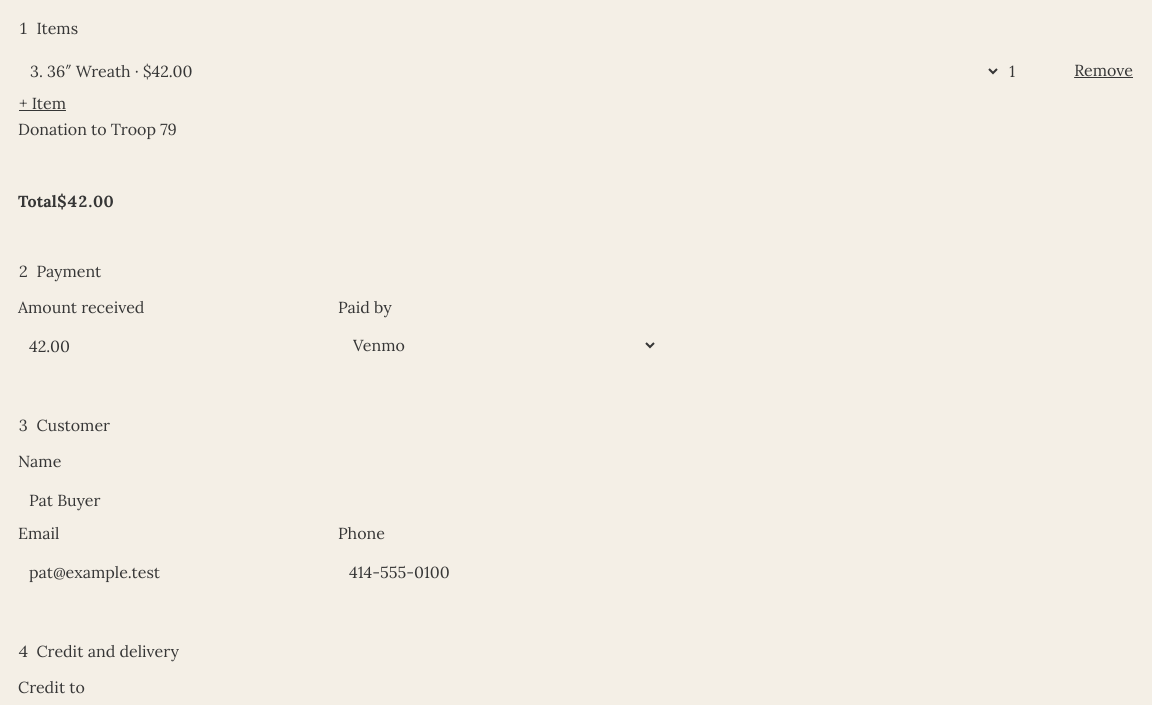
it: Edit order › EditOrderForm_PaidMoreThanTheNewTotal_CountsTheExtraAsAGift
This screenshot has width=1152, height=705.
Select "1. 20″ Wreath · $26.00" in the dropdown named "Item" at (510, 71), box [18,53,1001,89]
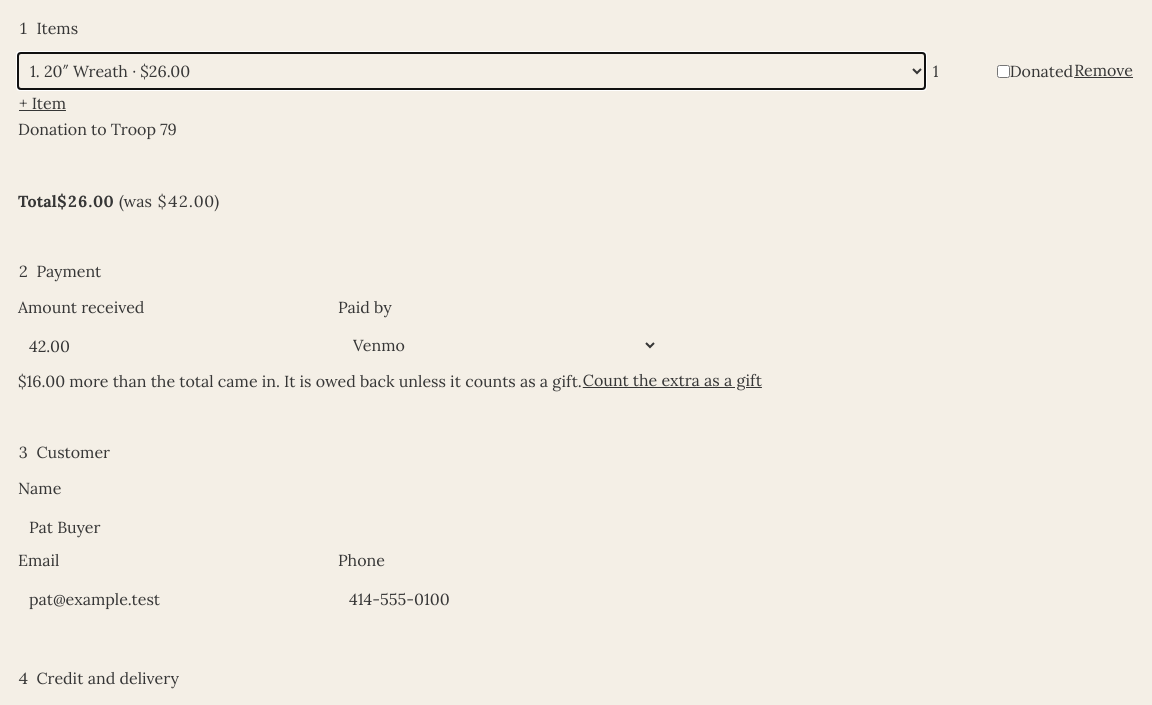
Click the button "Count the extra as a gift" at (672, 381), box [582,367,763,394]
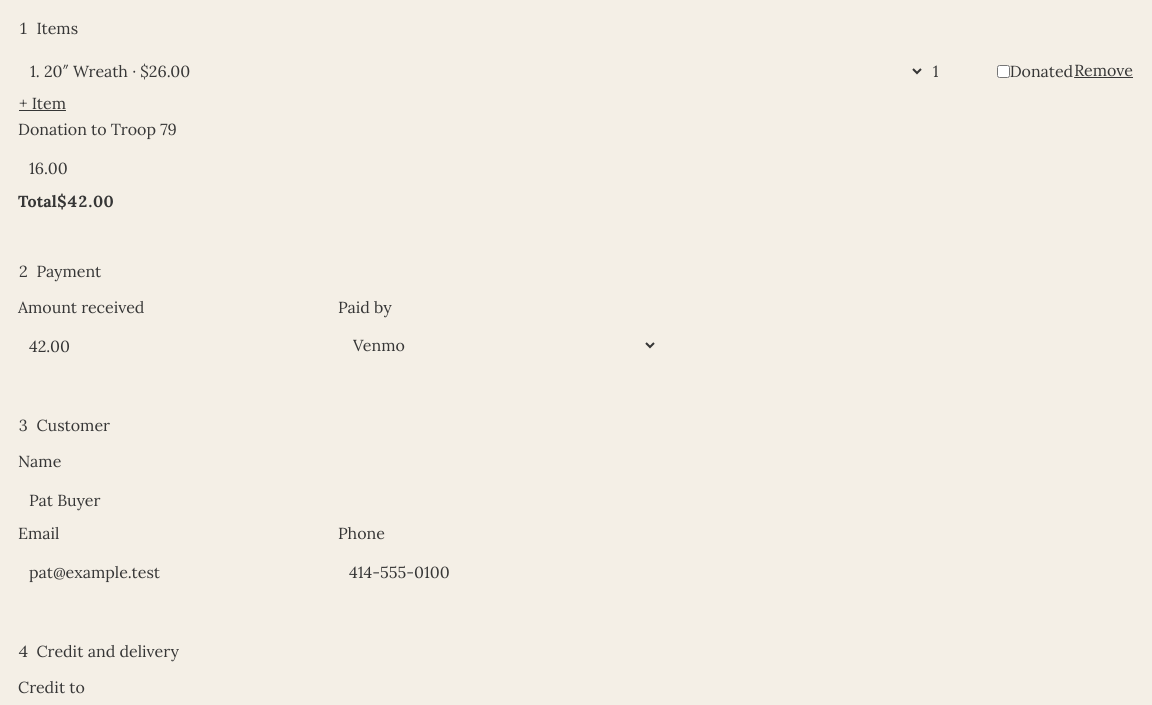
Check: the number field labelled "Donation to Troop 79" holds "16.00", box [18,147,1134,189]
